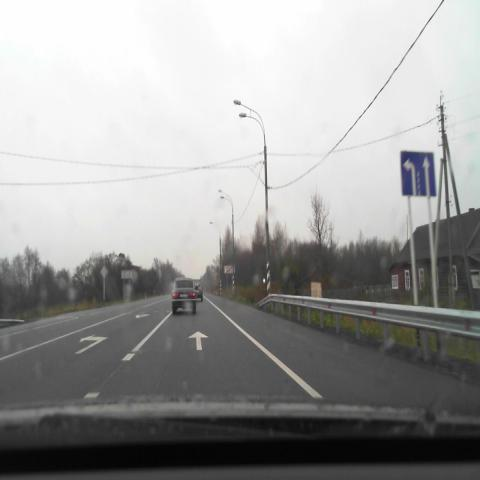5_15_2_2: (400, 151, 437, 198)
